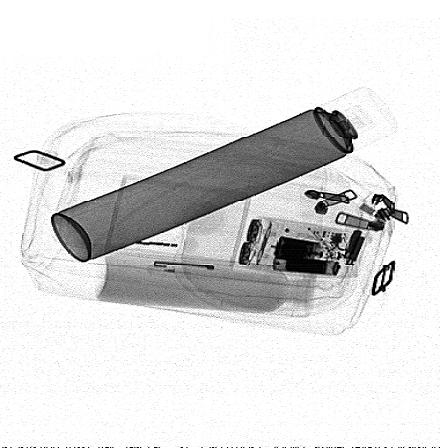Sprayer: (51, 88, 396, 263)
